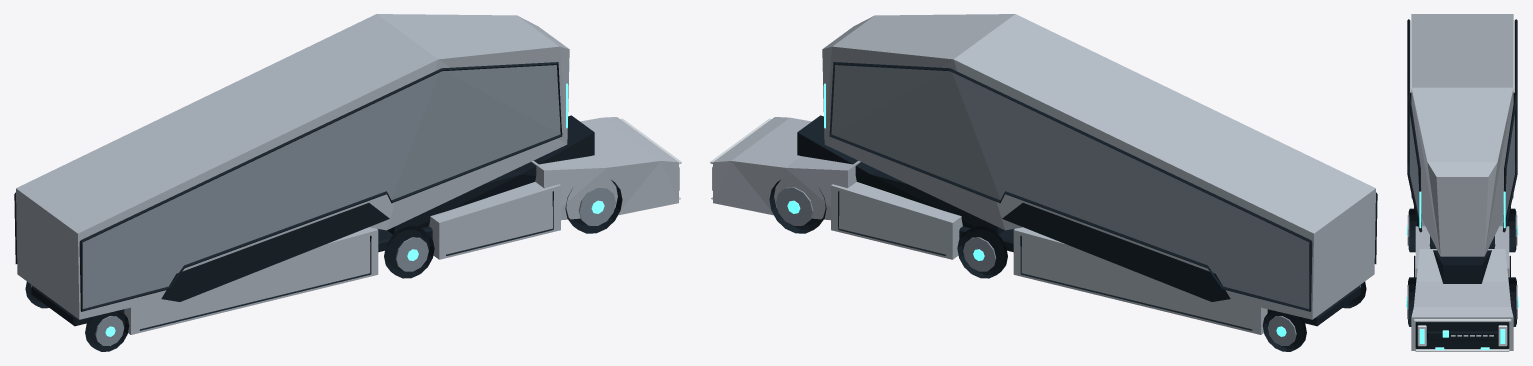
File: reference-truck.glb
3 views of the same model, side by side, from view 1: azimuth 30°, elevation 25°; view 2: azimuth 150°, elevation 25°; view 3: azimuth 270°, elevation 25° (orthographic). The views are drawn at different scales.
Parts seen in each view (by area): view 1: Body body, Body panel, Body dark, Tire 1 -1, Wheel alloy, Wheel alloy.002, Tire 2 -1, Tire 0 -1, Wheel alloy.004; view 2: Body body, Body panel, Body dark, Tire 1 1, Wheel alloy.001, Wheel alloy.003, Tire 2 1, Tire 0 1, Wheel alloy.005; view 3: Body body, Body dark, Body panel, Body trim, Body accent, Tire 1 1, Tire 1 -1, Tire 0 1, Tire 0 -1.
Boxes of the visible parts, x1,y1,x2,y2 form: Body body: (16, 14, 678, 334); Body panel: (82, 65, 560, 308); Body dark: (14, 62, 594, 330); Tire 1 -1: (384, 226, 434, 278); Wheel alloy: (578, 187, 615, 225); Wheel alloy.002: (395, 237, 428, 271); Tire 2 -1: (85, 310, 129, 351); Tire 0 -1: (565, 180, 622, 233); Wheel alloy.004: (95, 316, 124, 345); Body body: (713, 14, 1375, 334); Body panel: (831, 65, 1309, 308); Body dark: (797, 62, 1377, 330); Tire 1 1: (957, 226, 1007, 278); Wheel alloy.001: (776, 187, 813, 225); Wheel alloy.003: (963, 237, 996, 271); Tire 2 1: (1262, 310, 1306, 351); Tire 0 1: (769, 180, 826, 233); Wheel alloy.005: (1267, 316, 1296, 345); Body body: (1411, 14, 1513, 350); Body dark: (1407, 19, 1517, 348); Body panel: (1410, 115, 1514, 222); Body trim: (1413, 319, 1511, 351); Body accent: (1419, 191, 1505, 349); Tire 1 1: (1506, 208, 1516, 252); Tire 1 -1: (1408, 208, 1418, 252); Tire 0 1: (1508, 277, 1516, 326); Tire 0 -1: (1408, 277, 1416, 326).
Bounding box in the file's own units: 14.48 × 4.81 × 2.83.
